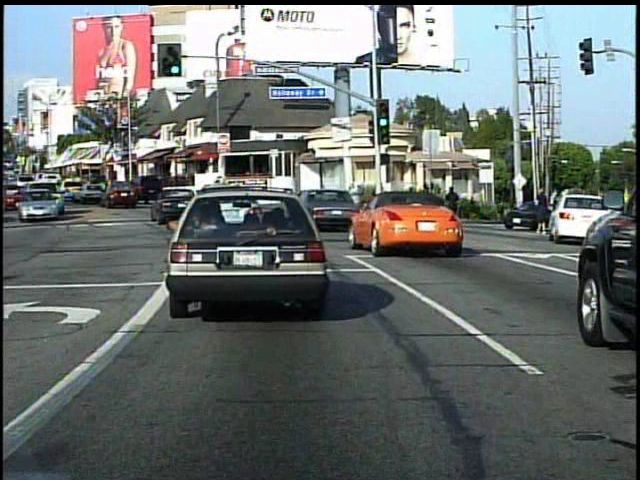person: (532, 180, 551, 240), (445, 183, 462, 226)
